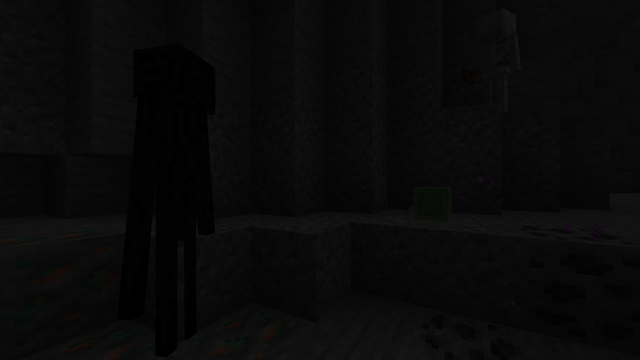endermens: (127, 26, 222, 357)
slimes: (412, 185, 450, 221)
squelettes: (478, 5, 515, 114)
